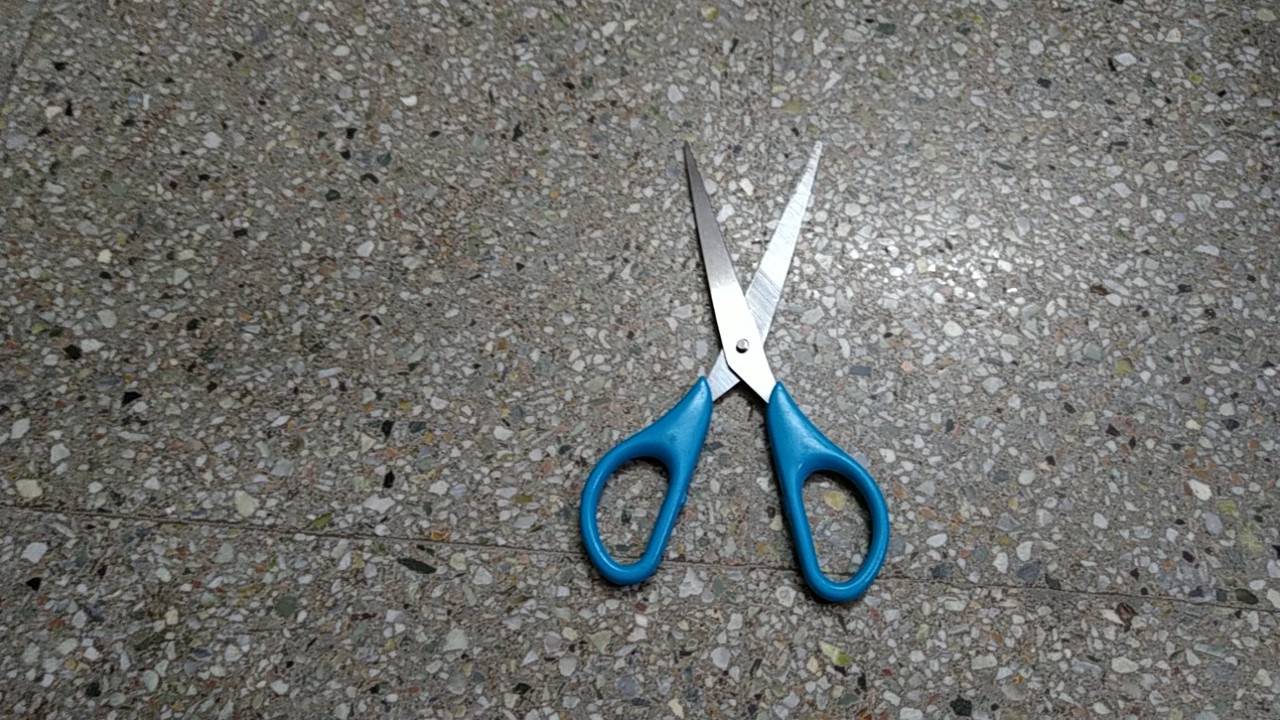scissor: (563, 124, 900, 621)
